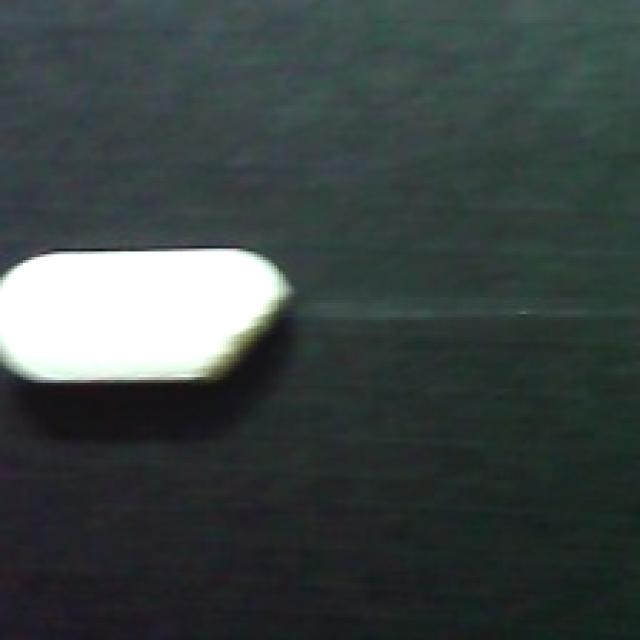defected: (0, 237, 303, 397)
